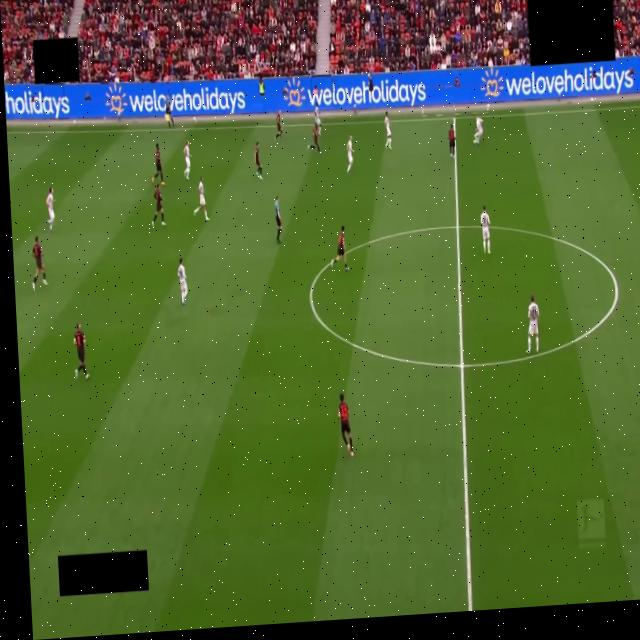player: (338, 394, 354, 457), (74, 323, 89, 379), (32, 236, 47, 291), (331, 226, 348, 271), (526, 296, 539, 354), (194, 177, 209, 220), (152, 143, 165, 185), (152, 186, 165, 226), (178, 259, 188, 305), (481, 206, 490, 254), (46, 187, 55, 230), (309, 124, 321, 154), (384, 111, 392, 150), (183, 140, 190, 179), (255, 142, 262, 179), (448, 124, 455, 158), (474, 118, 483, 144), (347, 136, 353, 172), (275, 110, 282, 140), (315, 107, 321, 135)
referee: (274, 196, 282, 243)
